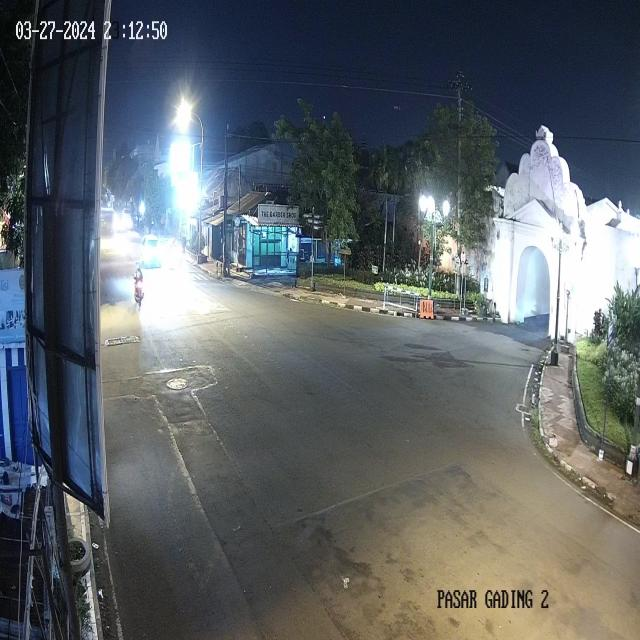car: (139, 225, 164, 275), (122, 205, 132, 224)
motorcycle: (132, 267, 146, 307)
